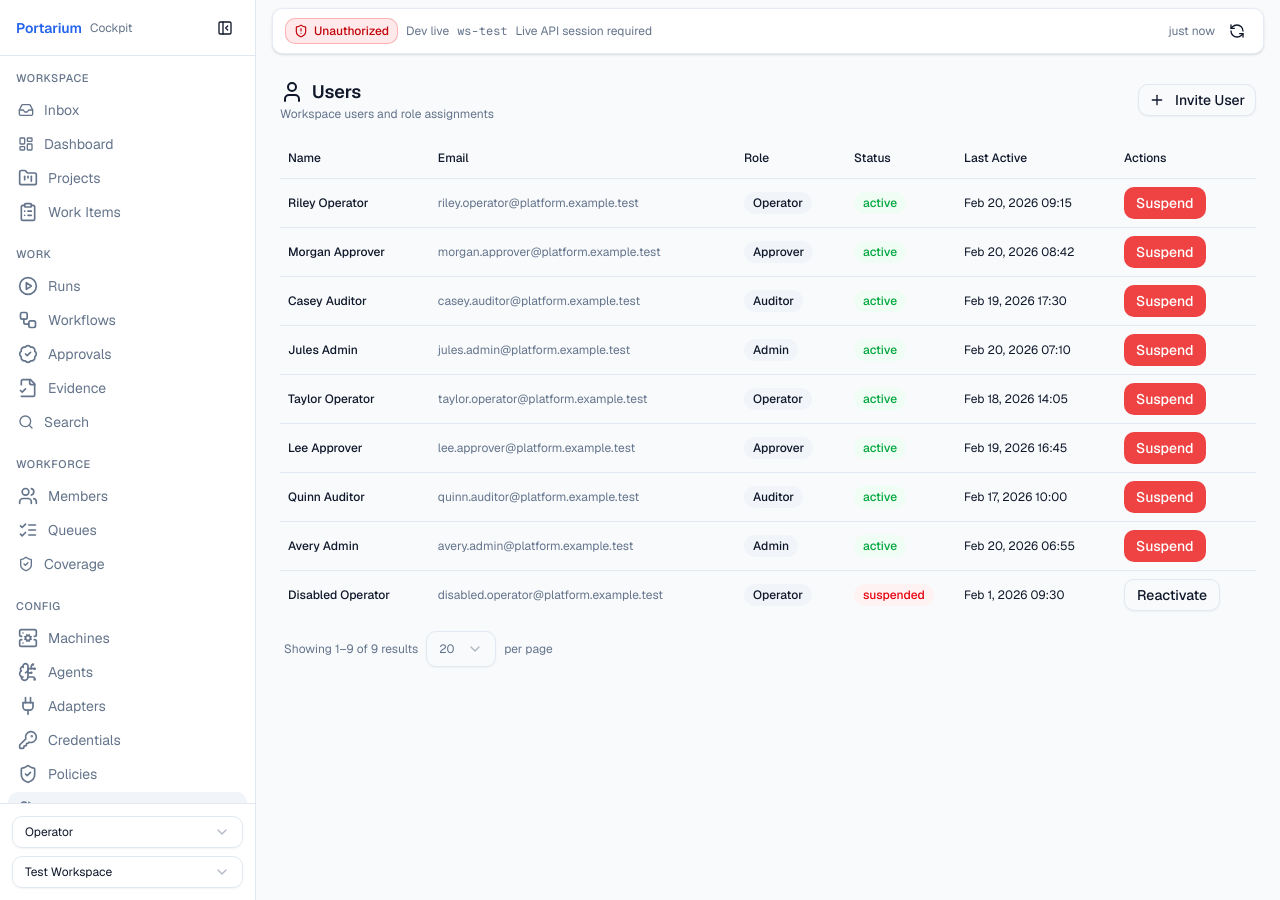
Users/RBAC management page › opens role assignment sheet when a user row is clicked
Click the text "Riley Operator" at (328, 202), box left=288, top=194, right=368, bottom=210
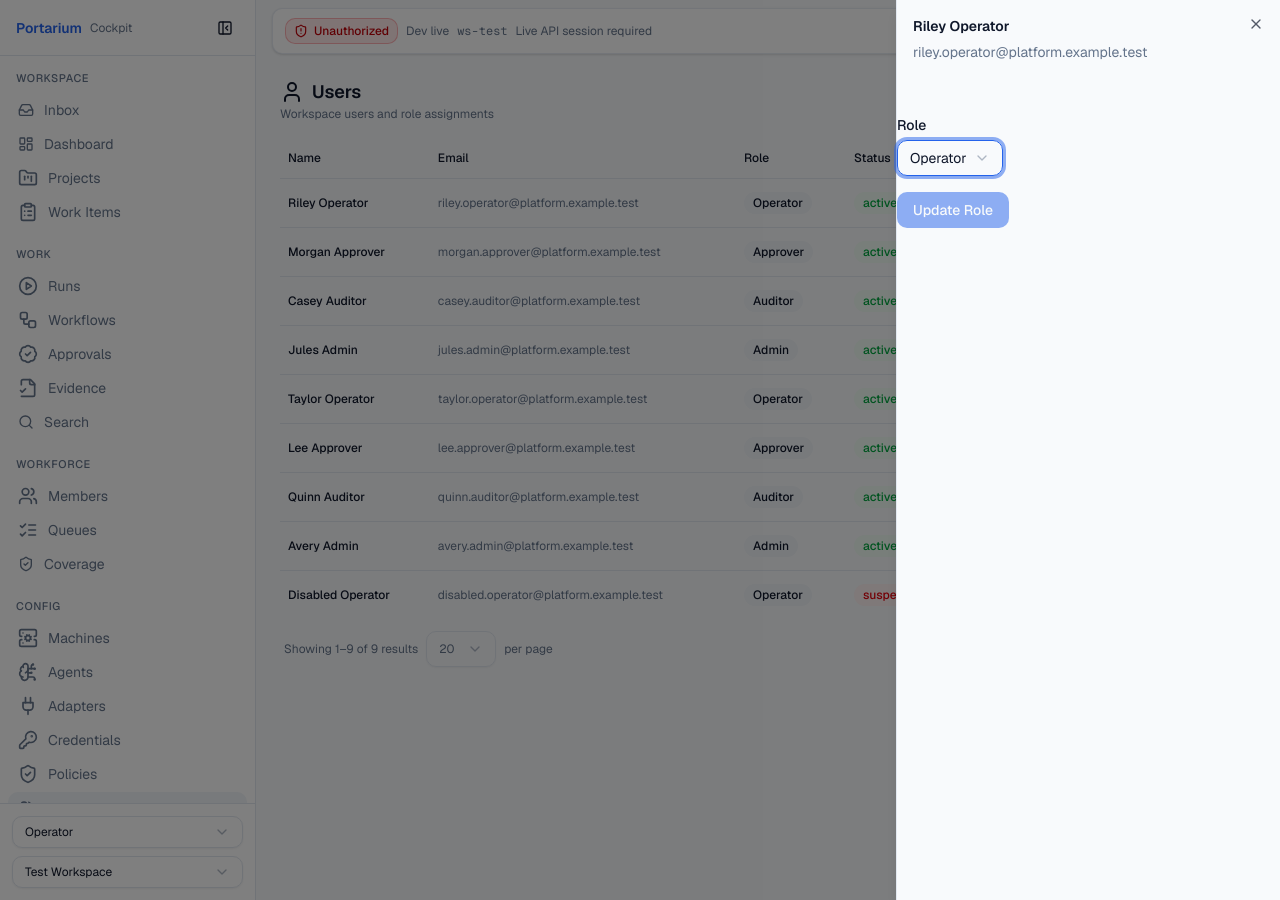
Check: the text "riley.operator@platform.example.test" is shown, box left=913, top=43, right=1148, bottom=61
Check: the button "Update Role" is shown, box left=897, top=192, right=1009, bottom=228
